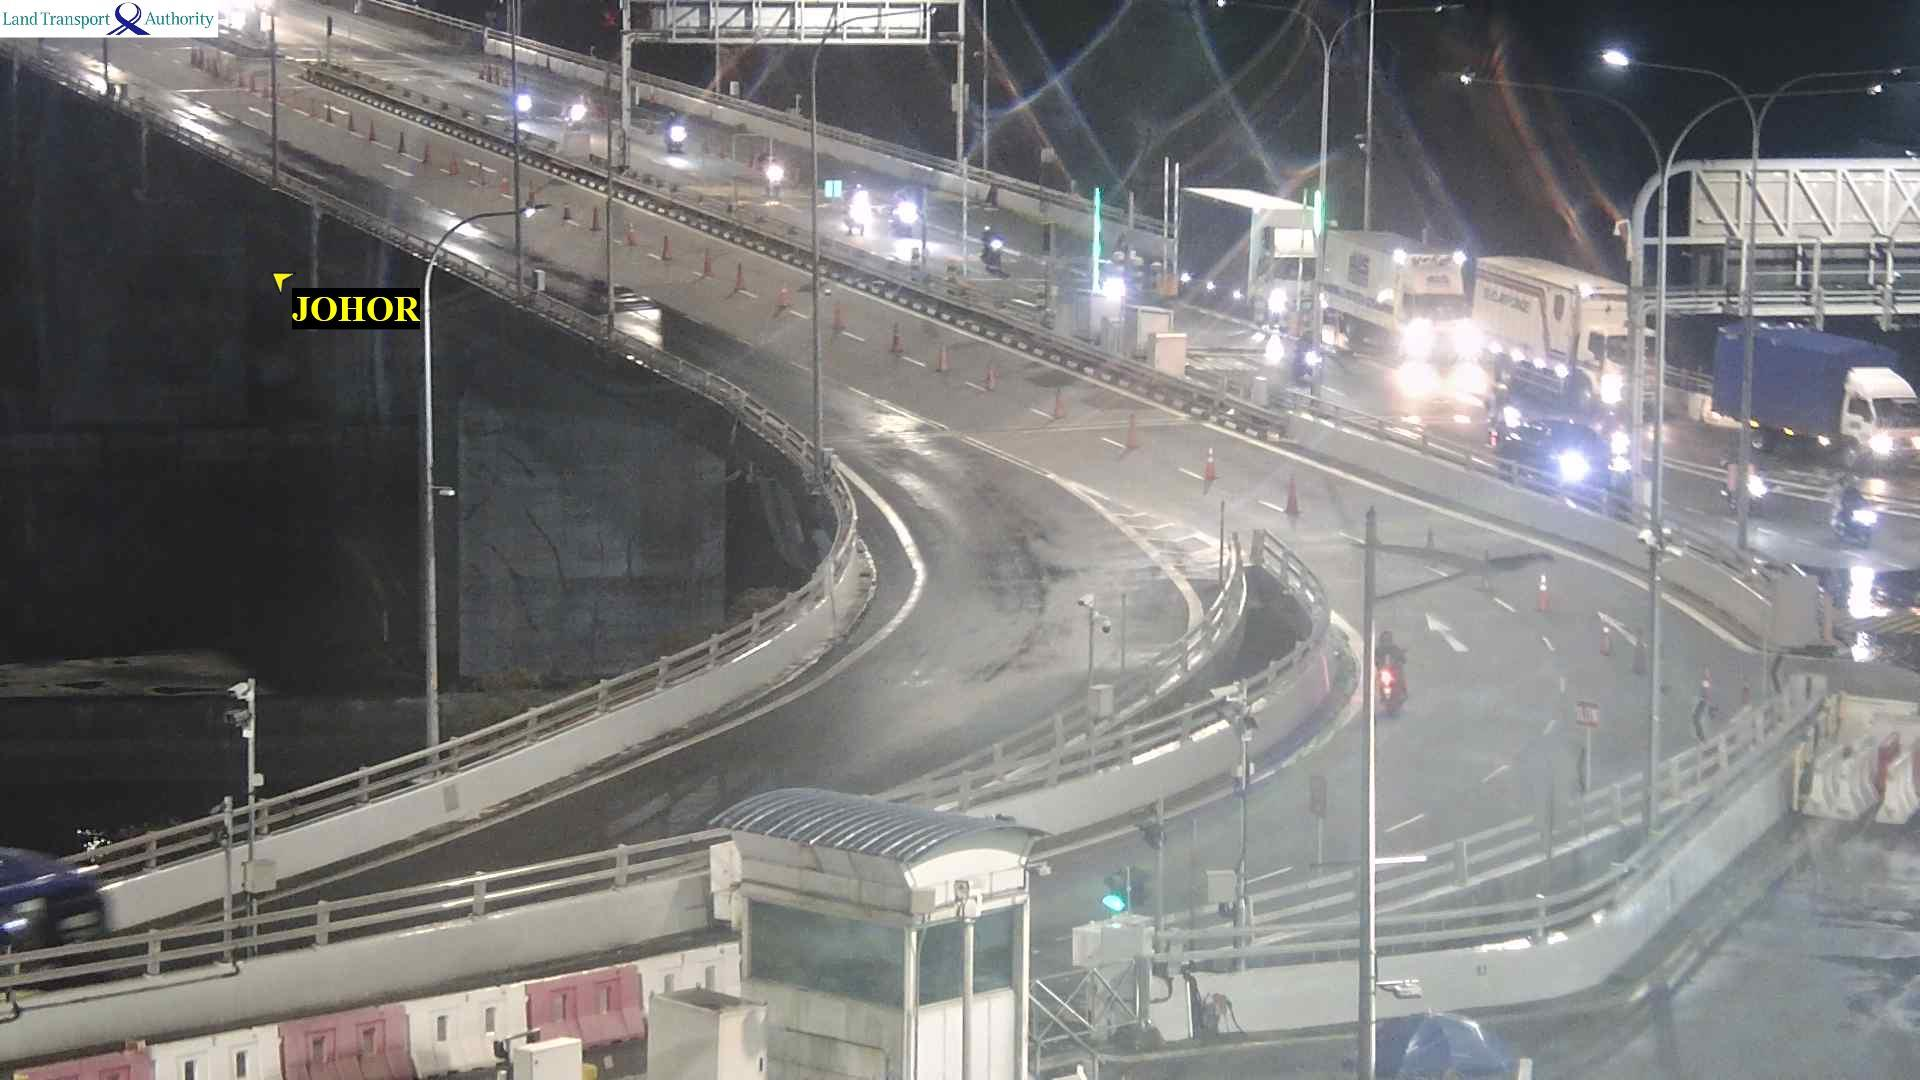vehicle-secondlink-johor: (1, 843, 108, 951), (1374, 628, 1403, 709)
vehicle-secondlink-singapore: (1669, 310, 1916, 465), (1478, 256, 1625, 415), (1324, 229, 1466, 365), (1184, 186, 1313, 318), (1499, 423, 1610, 491), (1836, 497, 1884, 541), (985, 227, 1025, 278), (973, 228, 1009, 276), (844, 183, 866, 235), (764, 156, 786, 195), (893, 189, 911, 233), (669, 116, 678, 152)
